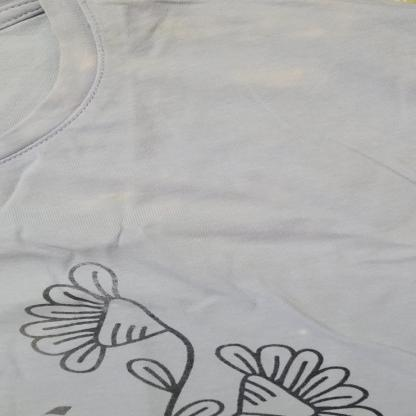spot: (242, 66, 326, 94), (122, 58, 192, 82), (295, 328, 317, 338)
